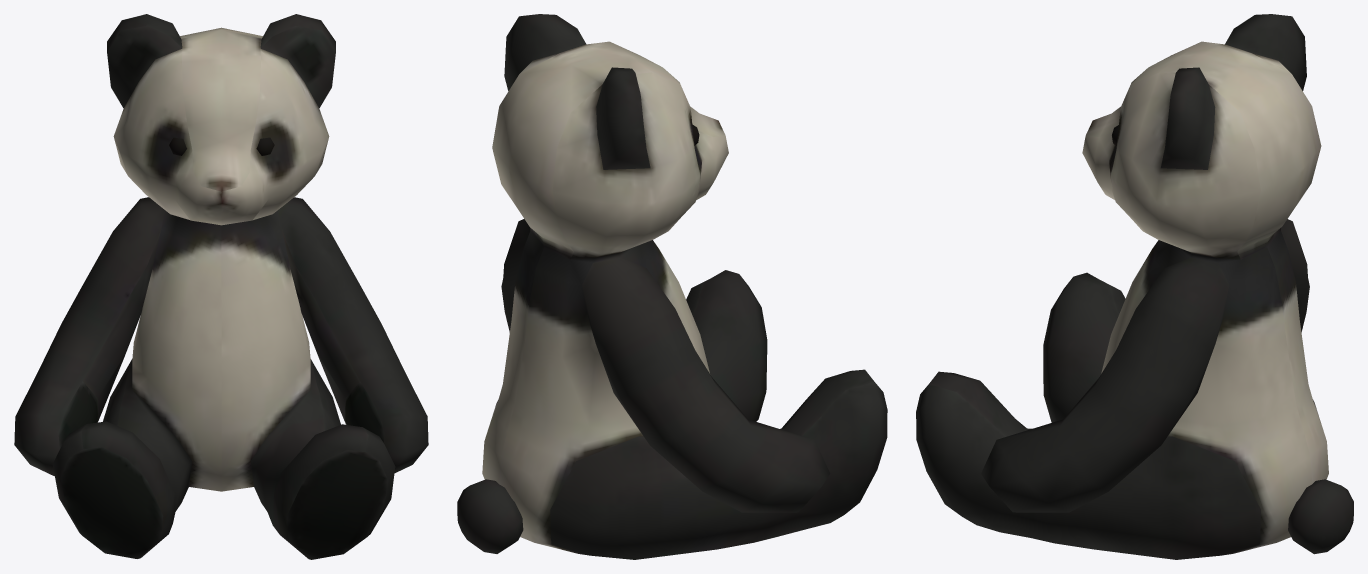
3 renders of one model, left to right at view 1: azimuth 30°, elevation 25°; view 2: azimuth 150°, elevation 25°; view 3: azimuth 270°, elevation 25°, orthographic. The views are drawn at different scales.
Size of the model in its own units: 9.24 by 11.8 by 9.59.
1 material, 1 textured.
